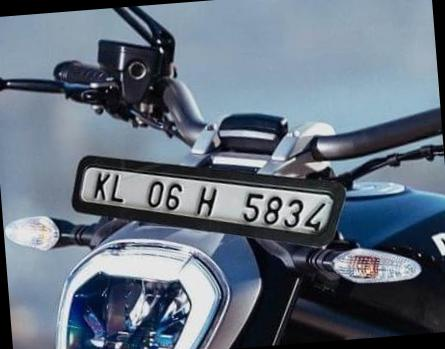plate: (62, 127, 360, 262)
